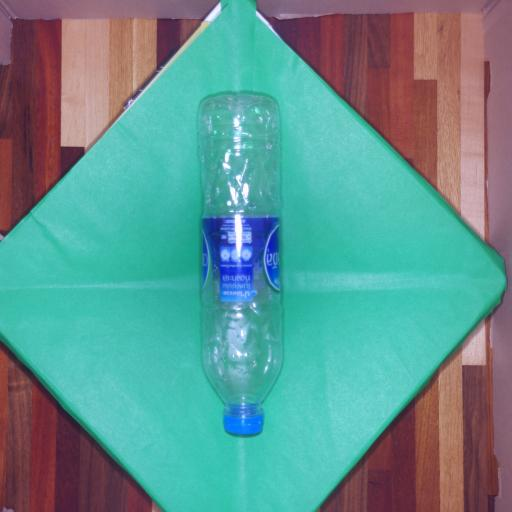bottle: (199, 95, 282, 434)
